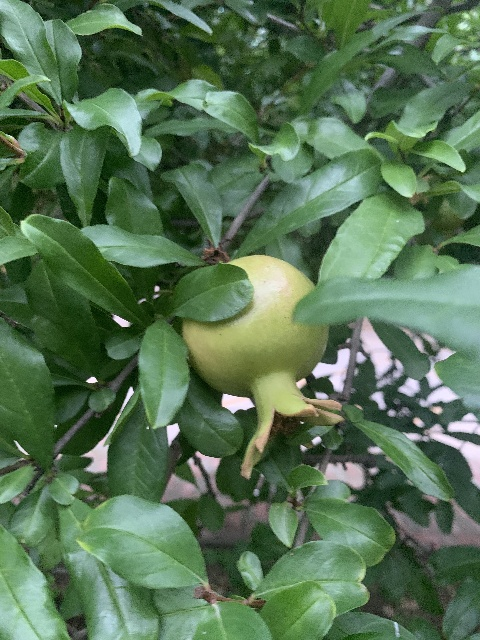mid-growth: (180, 254, 345, 478)
